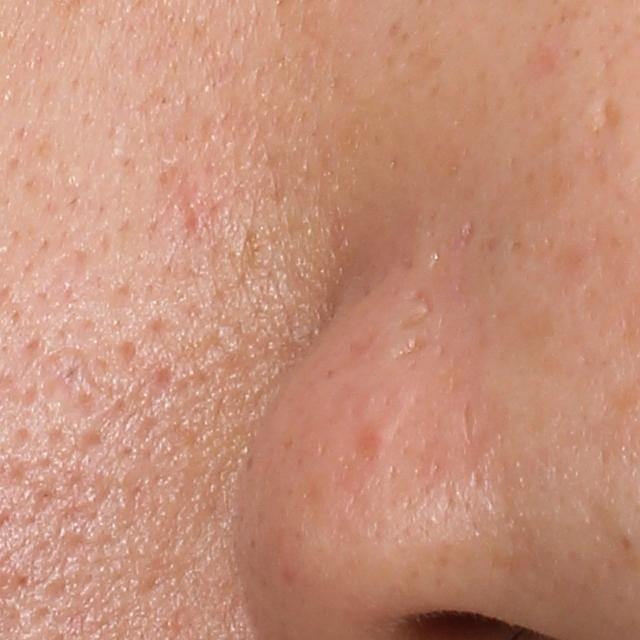atrophic_scar: (397, 287, 435, 332), (591, 95, 619, 134), (398, 334, 430, 359)
